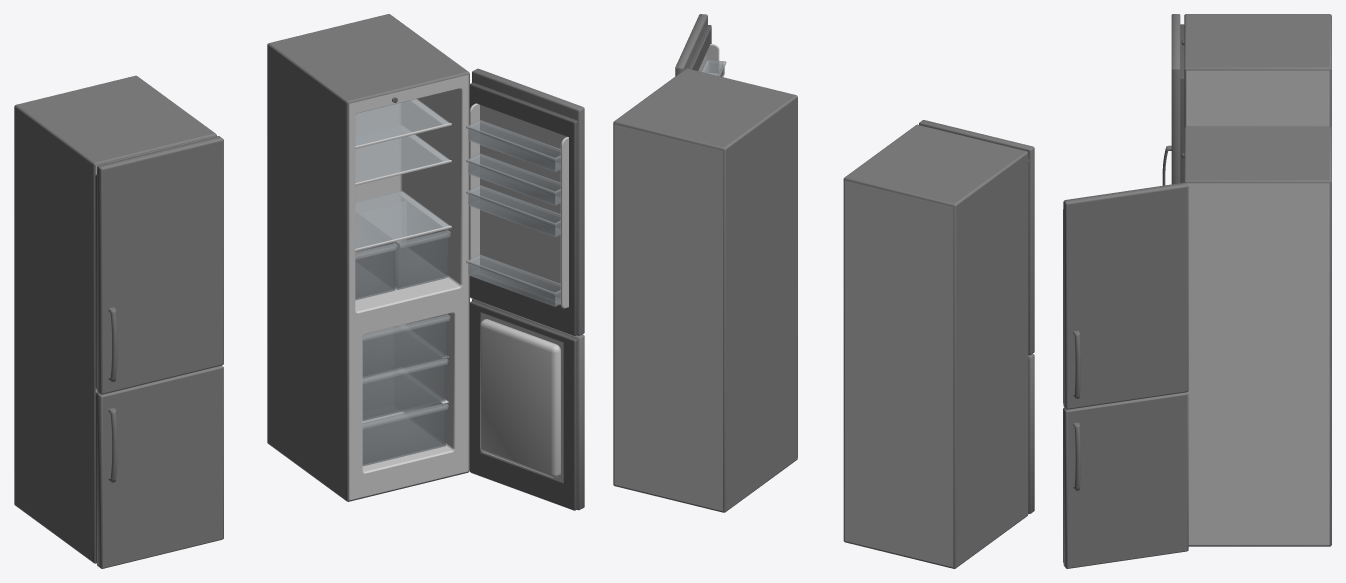
Rendered from refrigerator.glb.
The picture shows the model from 3 angles, left to right: view 1: azimuth 30°, elevation 25°; view 2: azimuth 150°, elevation 25°; view 3: azimuth 270°, elevation 25°; orthographic projection. The views are drawn at different scales.
Visible parts, largest first — view 1: refrigerator, refrigerator.001, door refrigerator.002, door refrigerator, door refrigerator.003, door refrigerator.001, box refrigerator.004, box refrigerator, box refrigerator.001, box refrigerator.002, box refrigerator.003; view 2: refrigerator.001, refrigerator, door refrigerator.002, door refrigerator, door refrigerator.003; view 3: refrigerator, door refrigerator, door refrigerator.001, refrigerator.001, door refrigerator.002, handle refrigerator.002, handle refrigerator.003.
Boxes of the visible parts, x1=… form: refrigerator: x1=267, y1=14, x2=469, y2=501; refrigerator.001: x1=14, y1=75, x2=216, y2=563; door refrigerator.002: x1=95, y1=136, x2=223, y2=394; door refrigerator: x1=466, y1=68, x2=584, y2=335; door refrigerator.003: x1=95, y1=365, x2=223, y2=568; door refrigerator.001: x1=469, y1=299, x2=584, y2=510; box refrigerator.004: x1=357, y1=201, x2=450, y2=289; box refrigerator: x1=362, y1=402, x2=448, y2=466; box refrigerator.001: x1=362, y1=314, x2=450, y2=378; box refrigerator.002: x1=362, y1=358, x2=448, y2=420; box refrigerator.003: x1=355, y1=215, x2=397, y2=300; refrigerator.001: x1=843, y1=124, x2=1028, y2=568; refrigerator: x1=613, y1=68, x2=797, y2=512; door refrigerator.002: x1=919, y1=120, x2=1034, y2=355; door refrigerator: x1=675, y1=14, x2=726, y2=76; door refrigerator.003: x1=1028, y1=354, x2=1034, y2=513; refrigerator: x1=1181, y1=126, x2=1331, y2=546; door refrigerator: x1=1063, y1=182, x2=1188, y2=409; door refrigerator.001: x1=1063, y1=392, x2=1188, y2=568; refrigerator.001: x1=1181, y1=14, x2=1331, y2=128; door refrigerator.002: x1=1171, y1=14, x2=1184, y2=184; handle refrigerator.002: x1=1073, y1=422, x2=1080, y2=490; handle refrigerator.003: x1=1073, y1=331, x2=1080, y2=398.
Bounding box in the file's own units: 2.29 × 2.03 × 1.35.
Materials: 2 (1 with a texture image).
